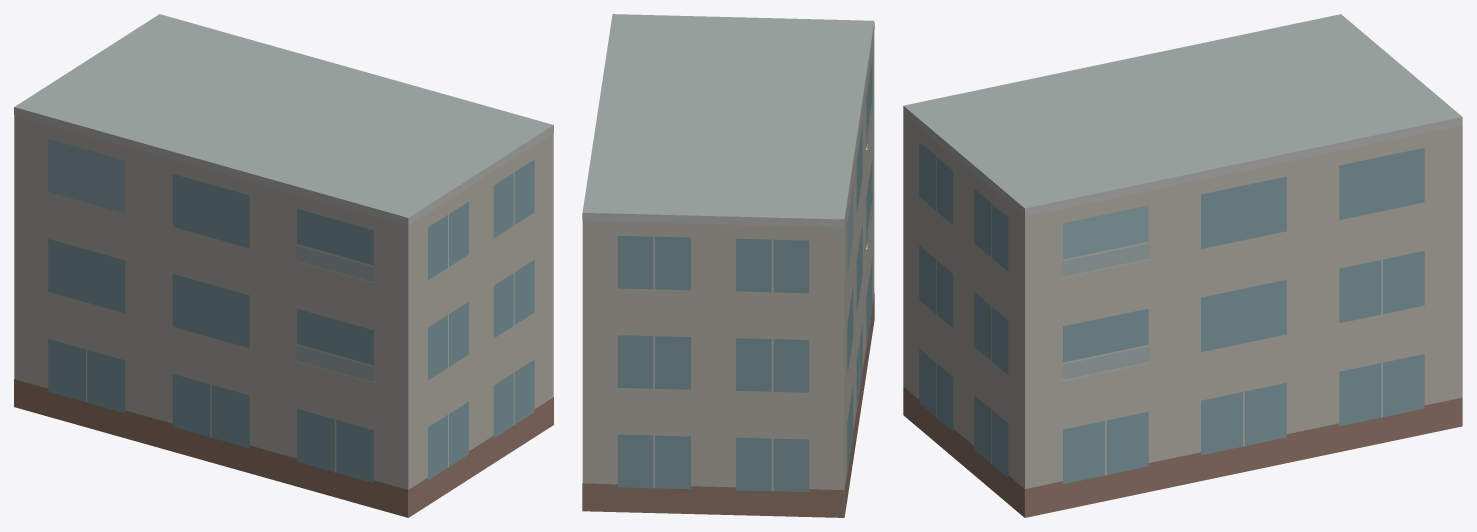
Rendered from survey-upis-32722292.glb.
3 renders of one model, left to right at view 1: azimuth 30°, elevation 25°; view 2: azimuth 150°, elevation 25°; view 3: azimuth 270°, elevation 25°, orthographic. The views are drawn at different scales.
Parts seen in each view (by area): view 1: survey-upis-32722292.tmp; view 2: survey-upis-32722292.tmp; view 3: survey-upis-32722292.tmp.
Boxes of the visible parts, x1,y1,x2,y2 form: survey-upis-32722292.tmp: [14, 14, 553, 517]; survey-upis-32722292.tmp: [582, 14, 874, 517]; survey-upis-32722292.tmp: [903, 14, 1462, 517].
Bounding box in the file's own units: 12.35 × 9.15 × 15.
